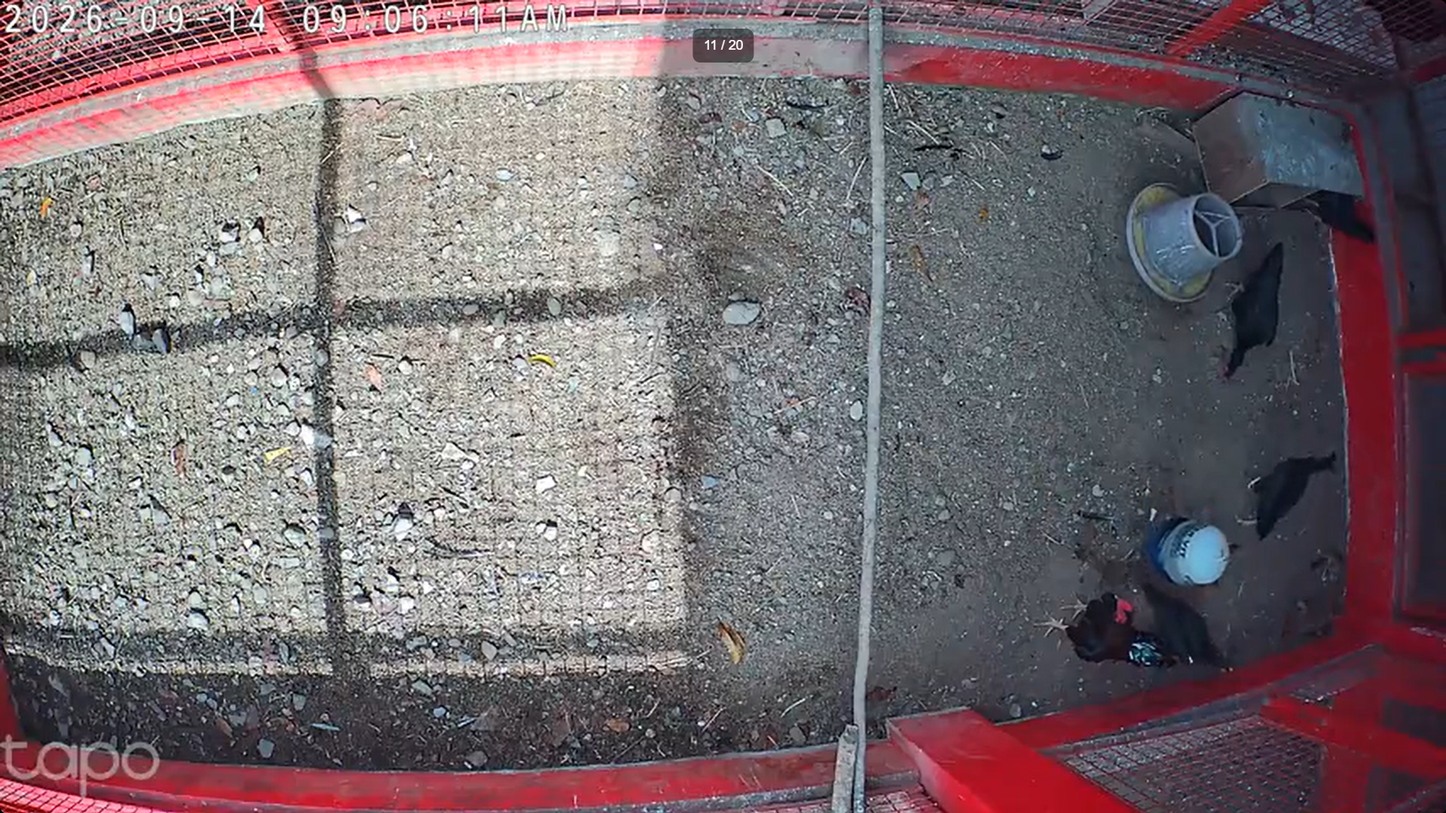Chicken: (1219, 237, 1290, 376), (1234, 451, 1336, 540)
Rooster: (1026, 591, 1177, 672)
